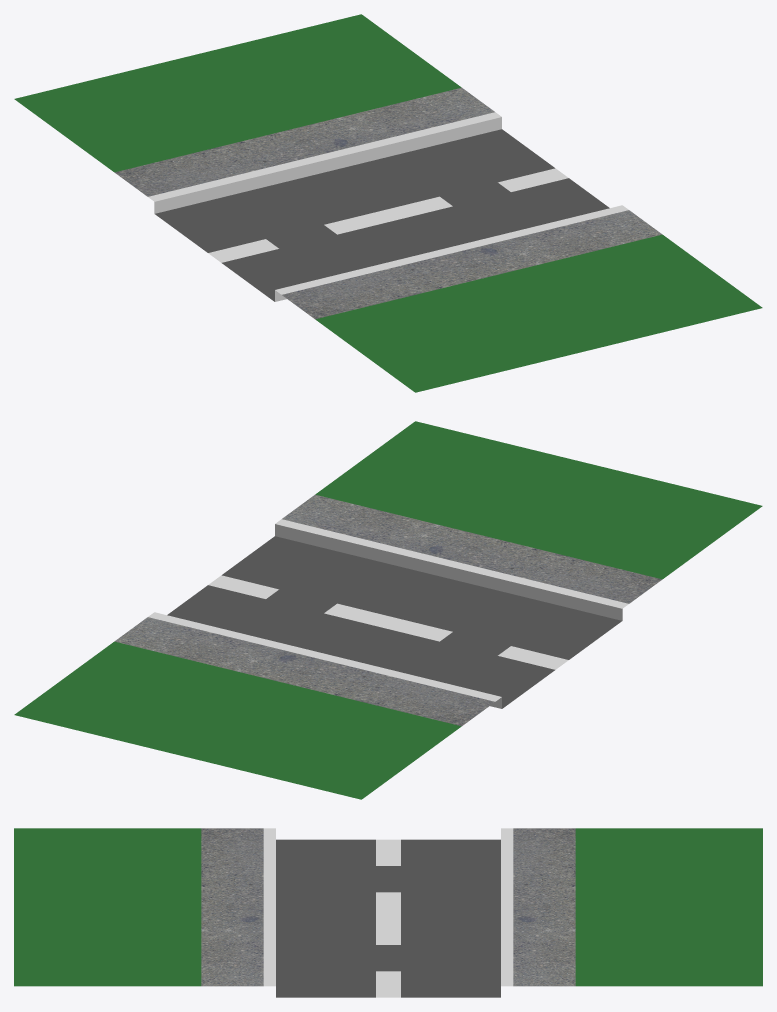
Rendered from Straight.fbx.
The picture shows the model from 3 angles, top to bottom: view 1: azimuth 30°, elevation 25°; view 2: azimuth 150°, elevation 25°; view 3: azimuth 270°, elevation 25°; orthographic projection. The views are drawn at different scales.
Visible parts, largest first — view 1: Straight; view 2: Straight; view 3: Straight.
Boxes of the visible parts, left/top/right/bottom form: Straight: left=14, top=14, right=762, bottom=392; Straight: left=14, top=421, right=762, bottom=799; Straight: left=14, top=828, right=762, bottom=997.
Bounding box in the file's own units: 3000 × 100 × 6000.
